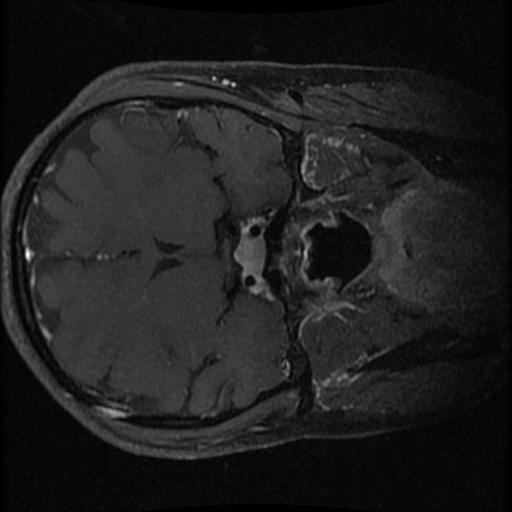pituitary tumour: (233, 239, 265, 275)
